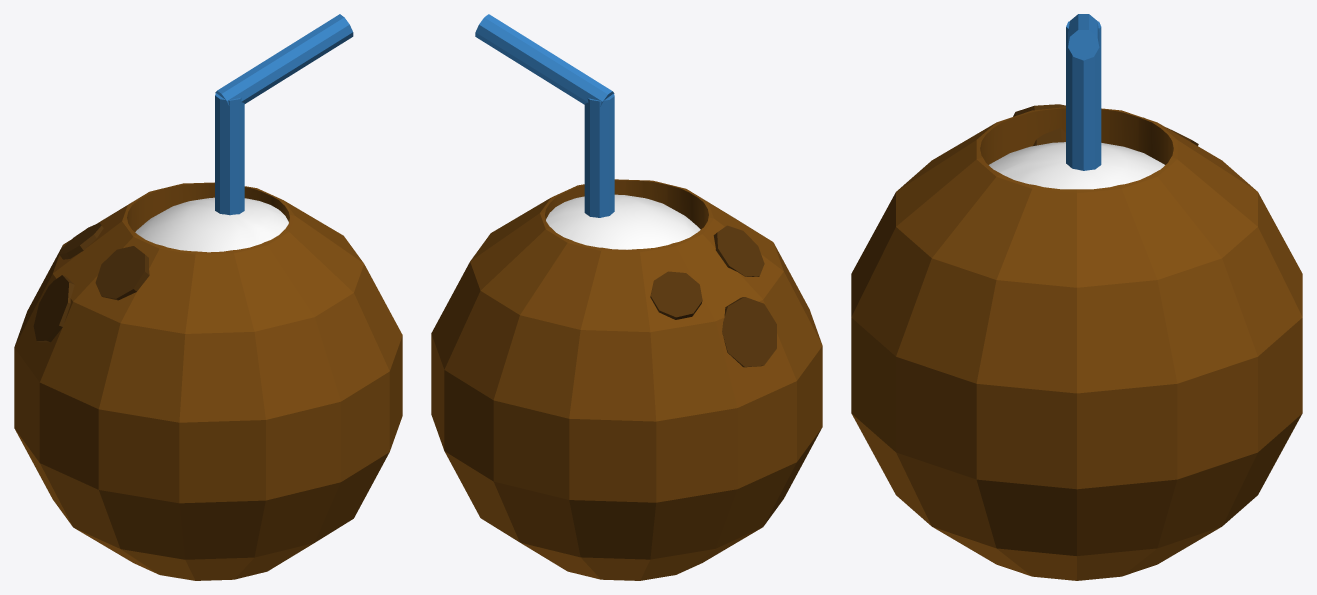
The model's file is Коктель 1.fbx.
The picture shows the model from 3 angles, left to right: view 1: azimuth 30°, elevation 25°; view 2: azimuth 150°, elevation 25°; view 3: azimuth 270°, elevation 25°; orthographic projection. The views are drawn at different scales.
Parts seen in each view (by area): view 1: Объект_Сфера, Объект_Сфера_1, Объект_Цилиндр_1, Объект_Цилиндр, Объект_Цилиндр_3, Объект_Цилиндр_1_2, Объект_Цилиндр_2, Объект_Цилиндр_2_2; view 2: Объект_Сфера, Объект_Сфера_1, Объект_Цилиндр_1, Объект_Цилиндр, Объект_Цилиндр_2, Объект_Цилиндр_3, Объект_Цилиндр_2_2, Объект_Цилиндр_1_2; view 3: Объект_Сфера, Объект_Сфера_1, Объект_Цилиндр_3, Объект_Цилиндр, Объект_Цилиндр_1, Объект_Цилиндр_1_2.
Part boxes in pixels (x1,y1,x2,y2): Объект_Сфера: (14,182,402,580); Объект_Сфера_1: (135,197,288,252); Объект_Цилиндр_1: (215,14,353,105); Объект_Цилиндр: (215,93,244,215); Объект_Цилиндр_3: (127,183,289,231); Объект_Цилиндр_1_2: (95,246,149,300); Объект_Цилиндр_2: (33,275,74,342); Объект_Цилиндр_2_2: (59,223,103,259); Объект_Сфера: (431,179,822,580); Объект_Сфера_1: (546,194,700,249); Объект_Цилиндр_1: (475,14,614,106); Объект_Цилиндр: (584,93,614,217); Объект_Цилиндр_2: (722,297,776,367); Объект_Цилиндр_3: (545,180,708,229); Объект_Цилиндр_2_2: (650,271,702,319); Объект_Цилиндр_1_2: (713,225,764,276); Объект_Сфера: (851,107,1302,580); Объект_Сфера_1: (989,142,1164,189); Объект_Цилиндр_3: (980,108,1173,164); Объект_Цилиндр: (1066,21,1101,170); Объект_Цилиндр_1: (1068,14,1099,60); Объект_Цилиндр_1_2: (1013,104,1065,145).
Bounding box in the file's own units: 289 × 419 × 282.
